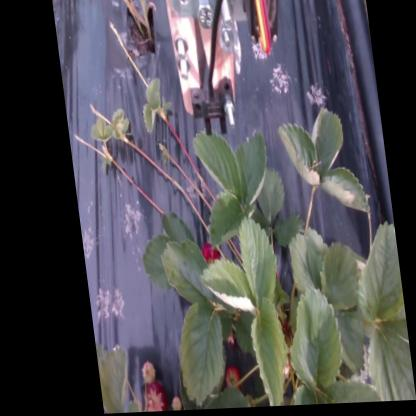ripe: (131, 384, 160, 413), (194, 244, 215, 268), (214, 364, 232, 392)
unripe: (128, 359, 147, 382), (220, 374, 241, 391)
